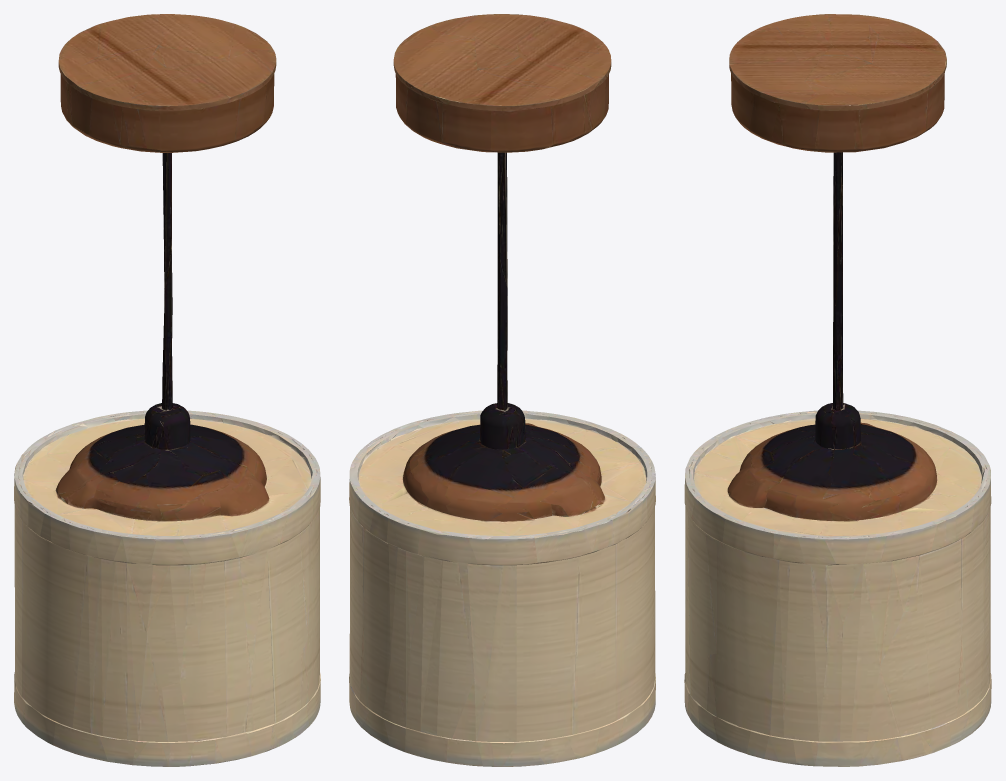
The model's file is pendant_drum.glb.
3 views of the same model, side by side, from view 1: azimuth 30°, elevation 25°; view 2: azimuth 150°, elevation 25°; view 3: azimuth 270°, elevation 25° (orthographic).
Bounding box in the file's own units: 0.822 × 1.9 × 0.822.
1 material, 1 textured.
